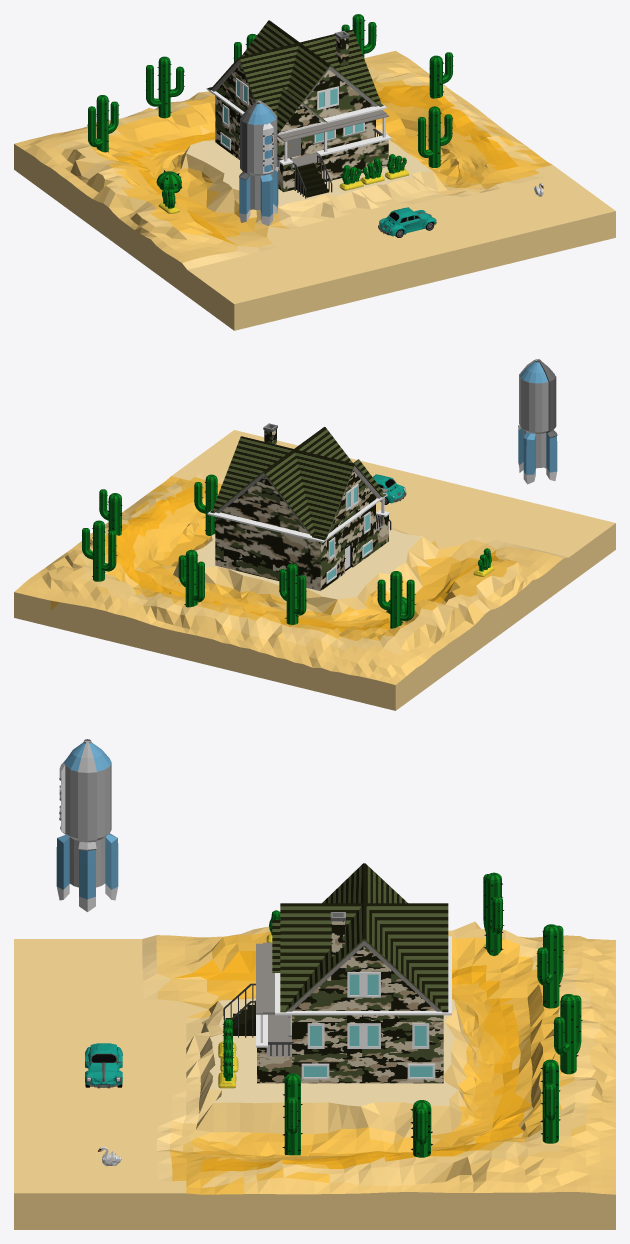
The picture shows the model from 3 angles, top to bottom: view 1: azimuth 30°, elevation 25°; view 2: azimuth 150°, elevation 25°; view 3: azimuth 270°, elevation 25°; orthographic projection. The views are drawn at different scales.
Visible parts, largest first — view 1: Cube.001, Cube.002, OBJRANDOM_ROCKETSHIP, Cylinder.044, Cylinder.037, Cylinder.045, VEHICLES_VOLKSWAGEN, Cylinder.038, Cylinder.042, Cylinder.041, Cylinder.039, Sphere.023; view 2: Cube.001, Cube.002, OBJRANDOM_ROCKETSHIP, Cylinder.045, Cylinder.042, Cylinder.044, Cylinder.043, Cylinder.037, Cylinder.038, VEHICLES_VOLKSWAGEN; view 3: Cube.001, Cube.002, OBJRANDOM_ROCKETSHIP, Cylinder.044, Cylinder.043, VEHICLES_VOLKSWAGEN, Cylinder.045, Cylinder.042, Cylinder.037, Cylinder.038.
Part boxes in pixels (left/top/right/bottom): Cube.001: left=14, top=50, right=615, bottom=330; Cube.002: left=206, top=20, right=391, bottom=198; OBJRANDOM_ROCKETSHIP: left=239, top=100, right=278, bottom=225; Cylinder.044: left=146, top=56, right=184, bottom=118; Cylinder.037: left=417, top=106, right=452, bottom=167; Cylinder.045: left=87, top=95, right=119, bottom=152; VEHICLES_VOLKSWAGEN: left=378, top=207, right=436, bottom=237; Cylinder.038: left=429, top=52, right=453, bottom=98; Cylinder.042: left=341, top=14, right=376, bottom=58; Cylinder.041: left=385, top=154, right=409, bottom=179; Cylinder.039: left=339, top=165, right=363, bottom=190; Sphere.023: left=156, top=170, right=182, bottom=192; Cube.001: left=14, top=430, right=615, bottom=710; Cube.002: left=207, top=423, right=391, bottom=591; OBJRANDOM_ROCKETSHIP: left=518, top=359, right=557, bottom=484; Cylinder.045: left=377, top=571, right=415, bottom=628; Cylinder.042: left=82, top=520, right=117, bottom=581; Cylinder.044: left=279, top=563, right=306, bottom=624; Cylinder.043: left=178, top=549, right=205, bottom=607; Cylinder.037: left=194, top=474, right=221, bottom=535; Cylinder.038: left=99, top=489, right=122, bottom=535; VEHICLES_VOLKSWAGEN: left=372, top=474, right=406, bottom=504; Cube.001: left=14, top=921, right=615, bottom=1229; Cube.002: left=223, top=863, right=451, bottom=1083; OBJRANDOM_ROCKETSHIP: left=56, top=739, right=118, bottom=911; Cylinder.044: left=536, top=924, right=564, bottom=1008; Cylinder.043: left=553, top=994, right=582, bottom=1074; VEHICLES_VOLKSWAGEN: left=85, top=1043, right=122, bottom=1088; Cylinder.045: left=483, top=872, right=504, bottom=955; Cylinder.042: left=540, top=1059, right=560, bottom=1143; Cylinder.037: left=282, top=1073, right=302, bottom=1155; Cylinder.038: left=410, top=1100, right=432, bottom=1157.
Bounding box in the file's own units: 4002 × 2029 × 4001.
35 materials, 4 textured.
